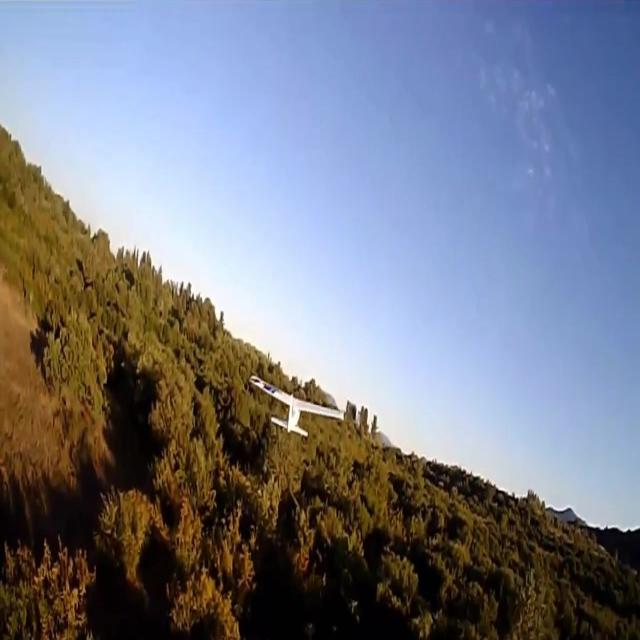iha: (280, 375, 313, 437)
